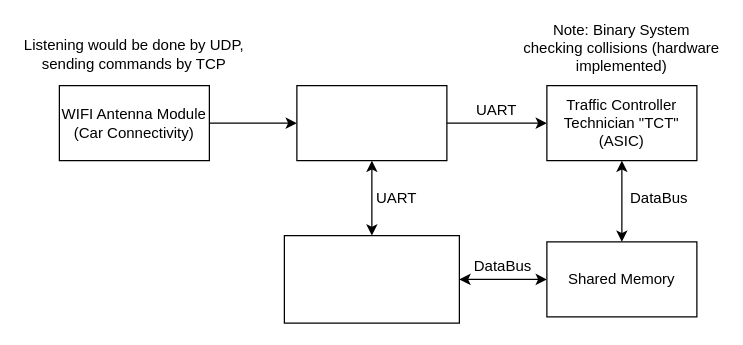
Some shapes in this 743 by 345 pixel diagram are drawn without their labels. Here are the shapes that lost their labels. From the top down, the centre of each, then its label:
At pixel 371 122: "Connection Dispatcher (ASIC)".
At pixel 371 278: "Main Microcontroller (does all the logic) (including the Scheduler)".
